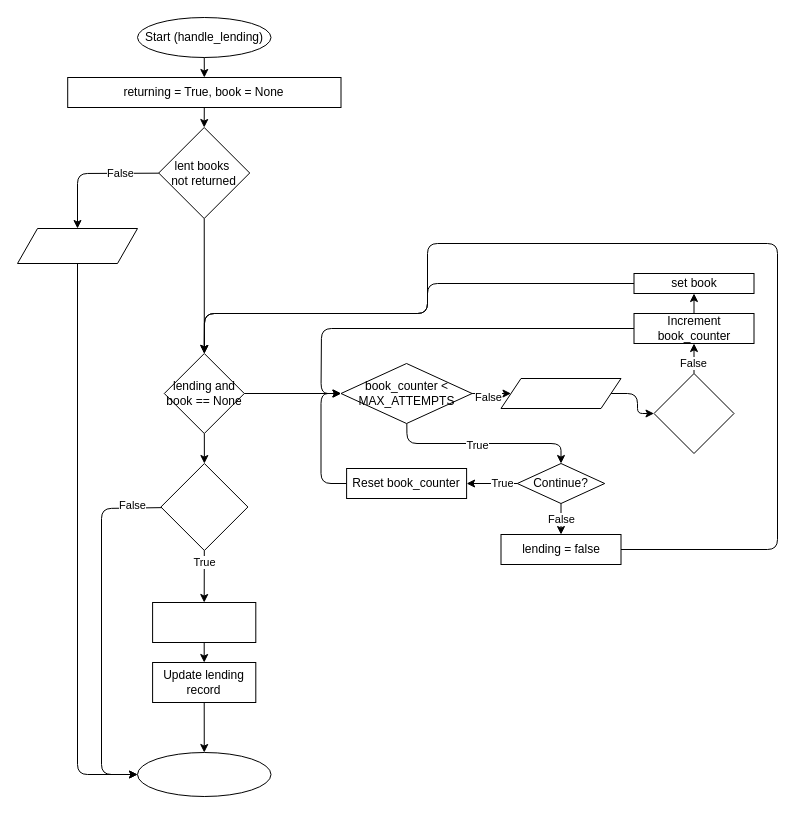
This 803x814 diagram has some shape labels left out. Here are the shapes that lost their labels. From the top down, the centre of each, then its label:
At point (77, 246): "Print: No books to return".
At point (560, 393): "Input: book_id".
At point (693, 413): "If book exists".
At point (204, 506): "if returning == True".
At point (204, 622): "Mark book as available".
At point (203, 774): "End (handle_returning)".
